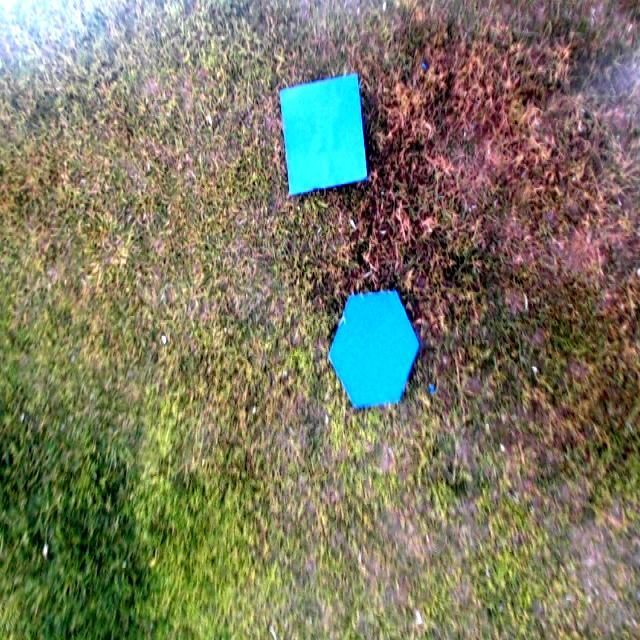blue_hexagon: (328, 291, 420, 408)
blue_square: (278, 72, 369, 198)
